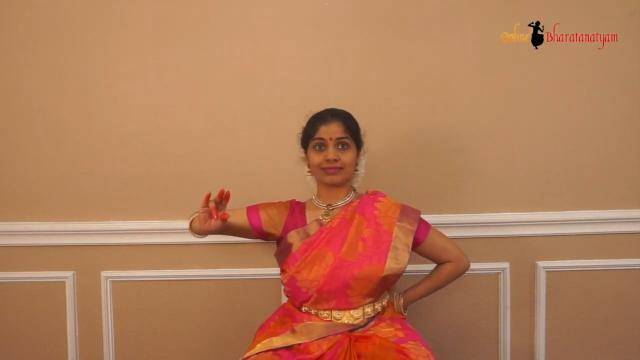kangul: (168, 173, 244, 246)
